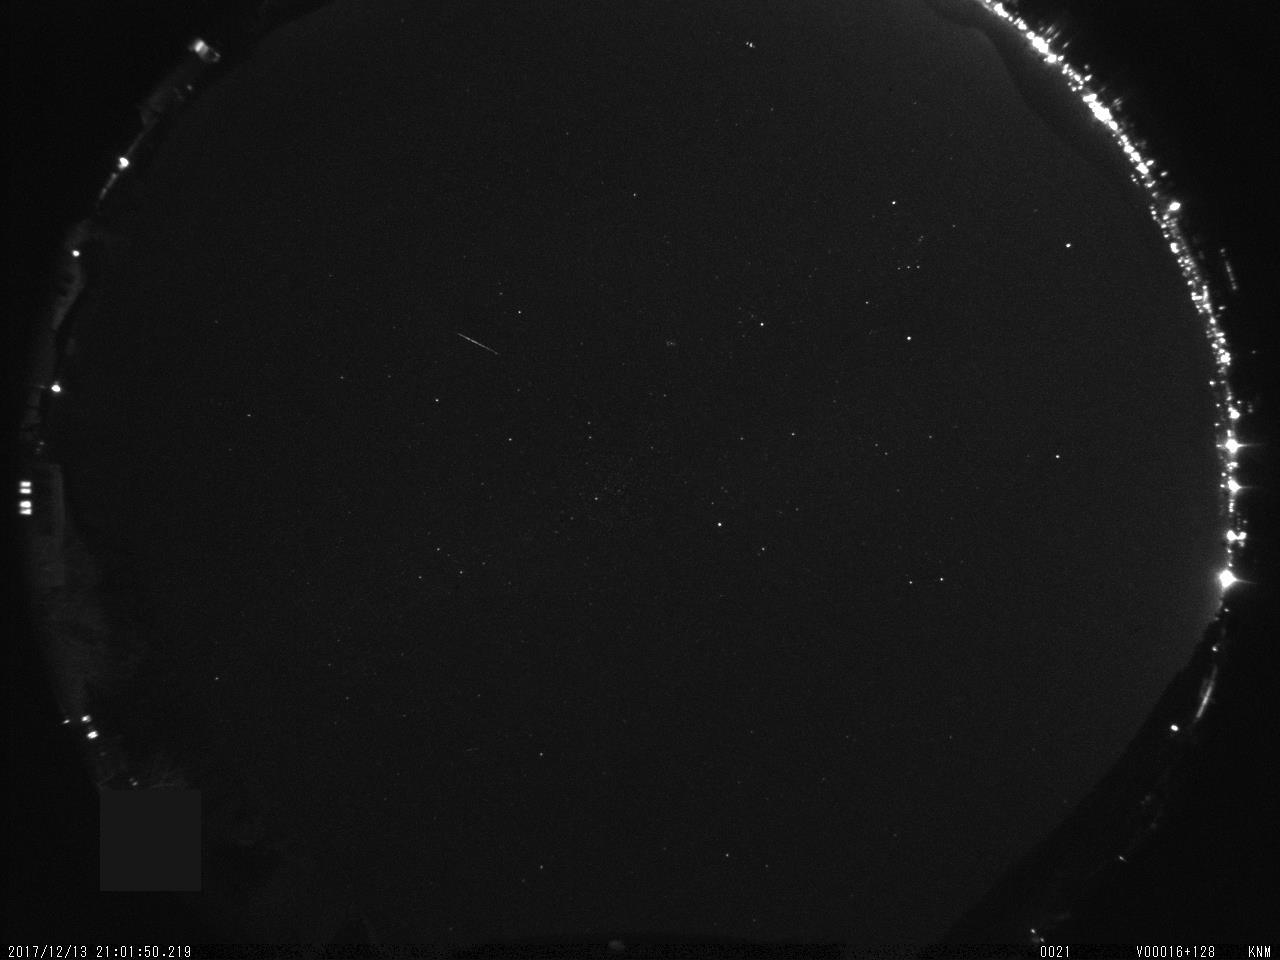meteor: (449, 323, 507, 361)
